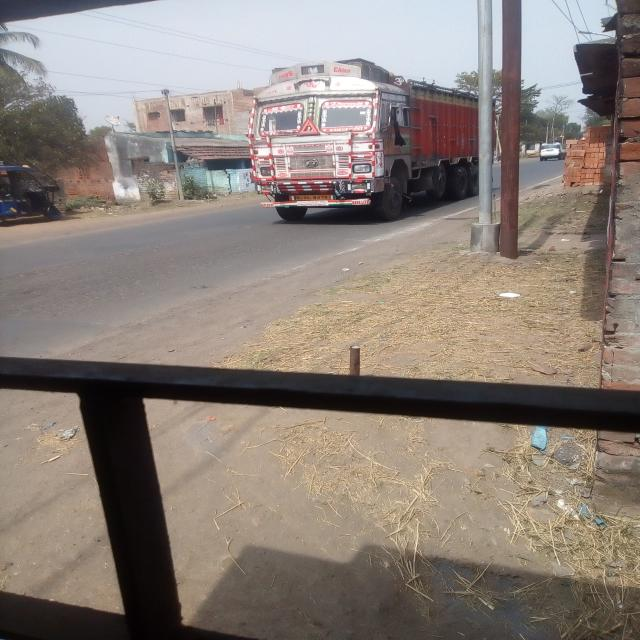Car: (536, 142, 566, 162)
Truck: (247, 62, 510, 230)
rickshaw: (1, 160, 79, 230)
